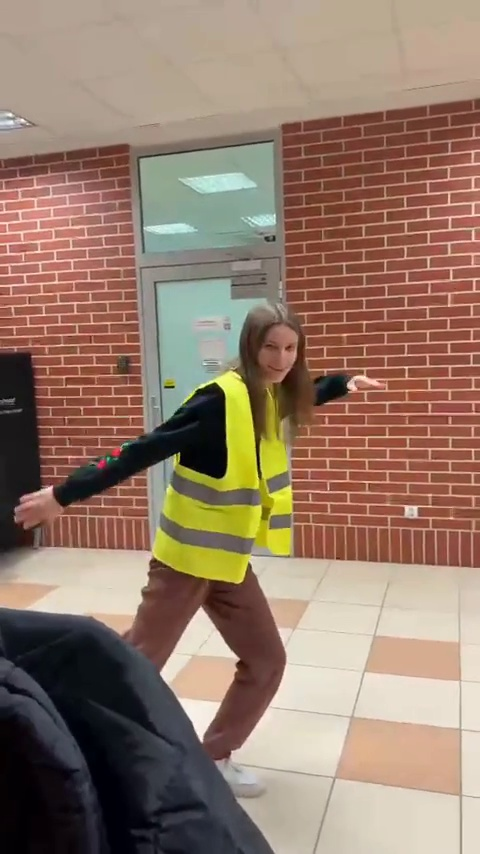vest: (160, 289, 336, 806)
